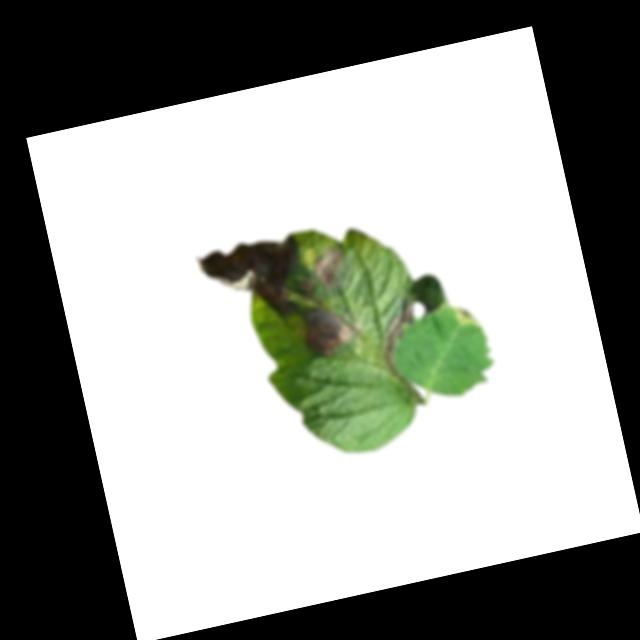Late_blight: (194, 228, 311, 333), (376, 304, 428, 382), (298, 297, 361, 358), (309, 241, 354, 293), (451, 302, 481, 329)
